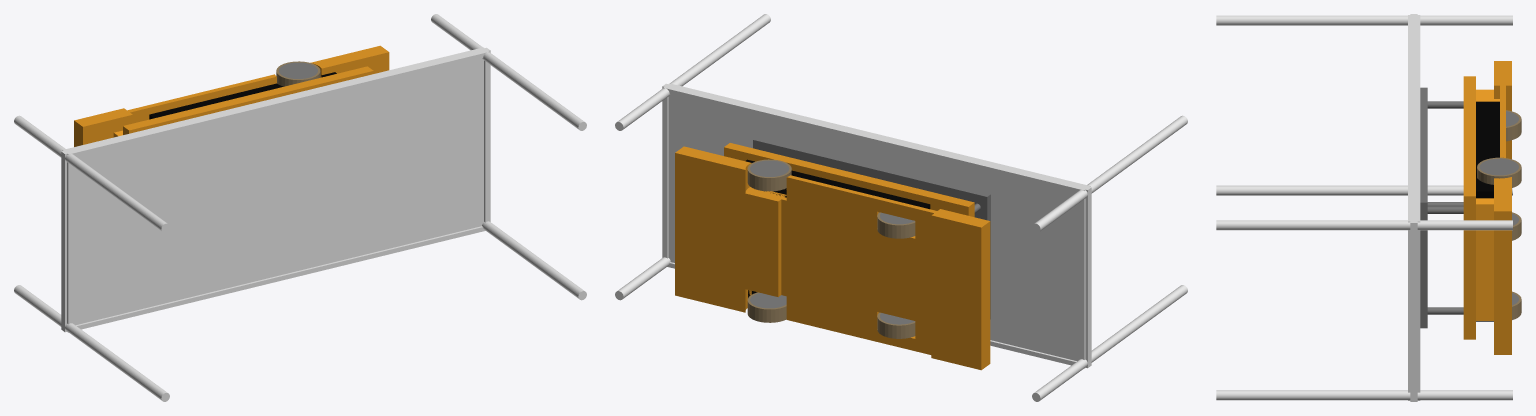
The model's file is ackermann_robot_lifting_shelf.dae.
3 renders of one model, left to right at view 1: azimuth 30°, elevation 25°; view 2: azimuth 150°, elevation 25°; view 3: azimuth 270°, elevation 25°, orthographic.
Parts seen in each view (by area): view 1: extreme parts; view 2: extreme parts; view 3: extreme parts.
Boxes of the visible parts, bbox=[...] form: extreme parts: bbox=[14, 14, 586, 401]; extreme parts: bbox=[615, 14, 1187, 401]; extreme parts: bbox=[1216, 14, 1521, 401].
Size of the model in its own units: 2 by 1.24 by 0.8.
